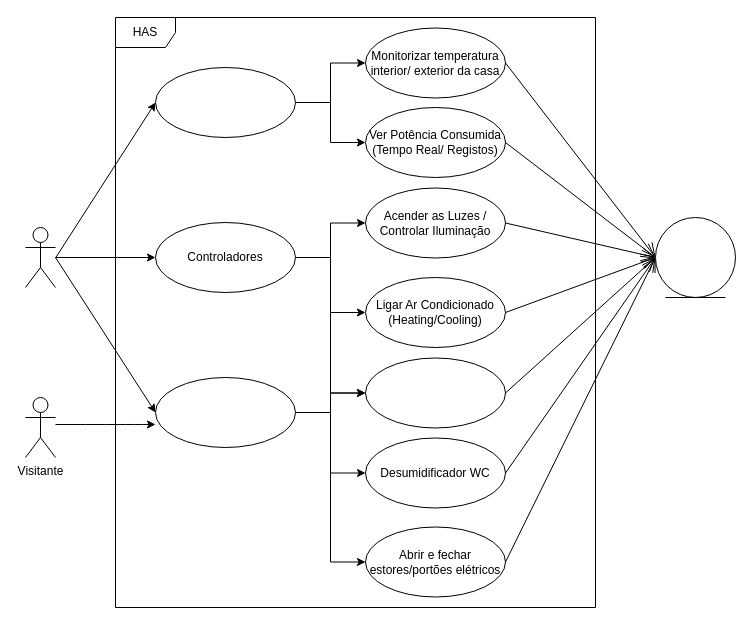
The diagram is 753 pixels wide and 625 high, and some of its shapes have lost their labels. The shapes that lost their labels are listed below. From the top down, each one's centre as x and y in pixels, then its label:
At point (225, 102): "Monitorizadores".
At point (40, 257): "Morador".
At point (695, 257): "Domótica".
At point (225, 412): "Atuadores".
At point (435, 392): "Ligar/ Programar Eletrodomésticos".
